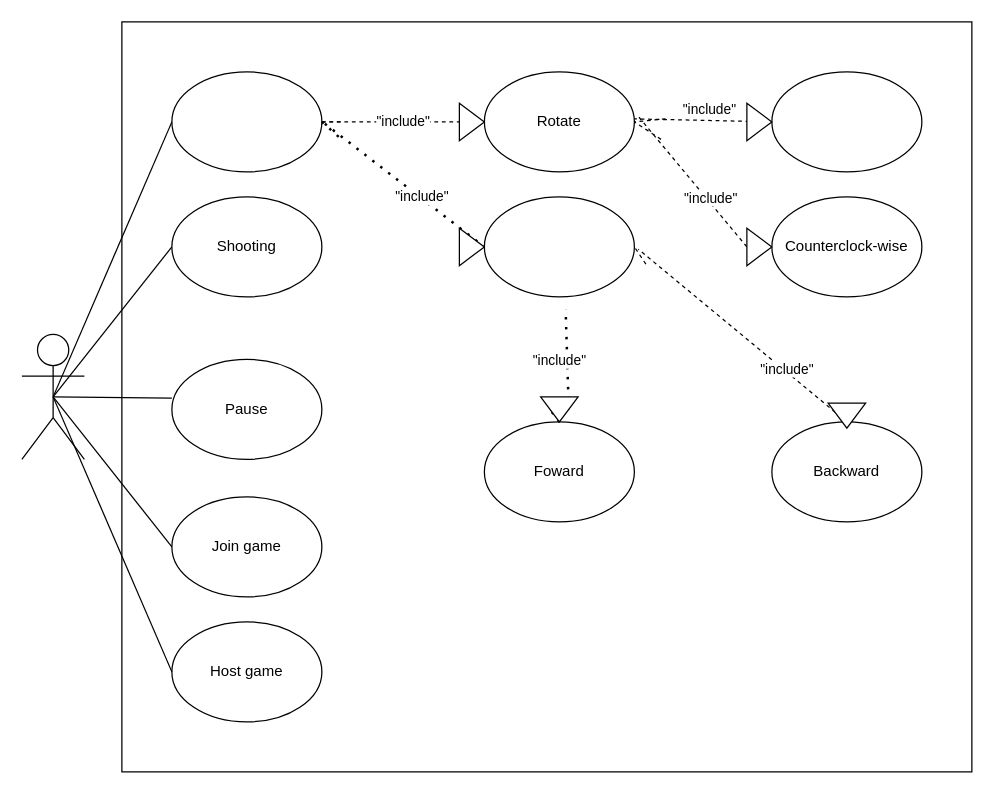
Some shapes in this 994 by 794 pixel diagram are drawn without their labels. Each missing label, with the box of its shape:
Clockwise: (771, 71, 922, 172)
Move: (483, 196, 634, 297)
Movement: (171, 71, 322, 172)
Player: (21, 333, 84, 459)
